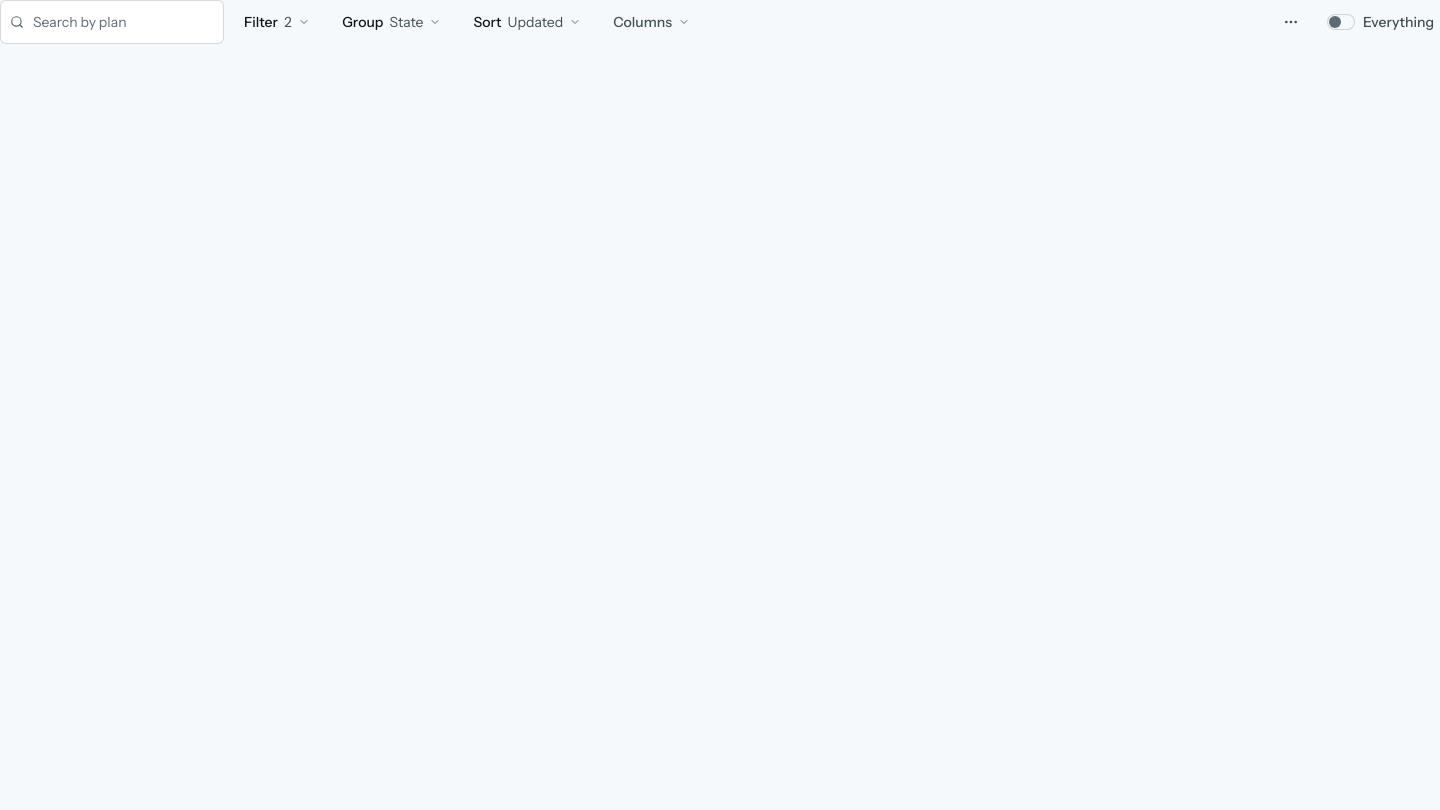
it: on a desk › opens a slot’s panel under its button
Click the button "Group State" at (392, 22), box [330, 0, 454, 44]
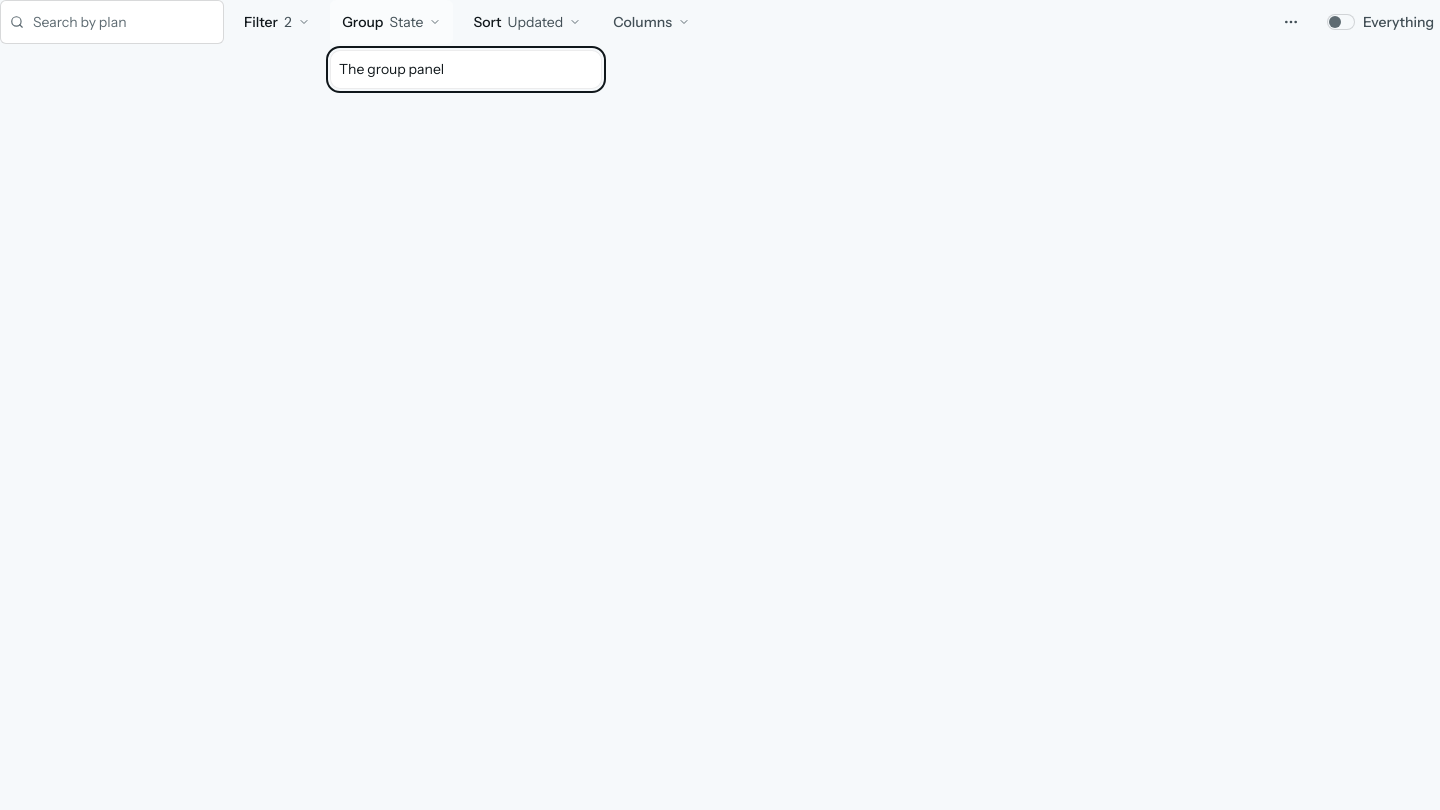
Now the text "The group panel" is shown, box [339, 60, 444, 78]
Press Escape in the dialog, box [330, 50, 602, 89]
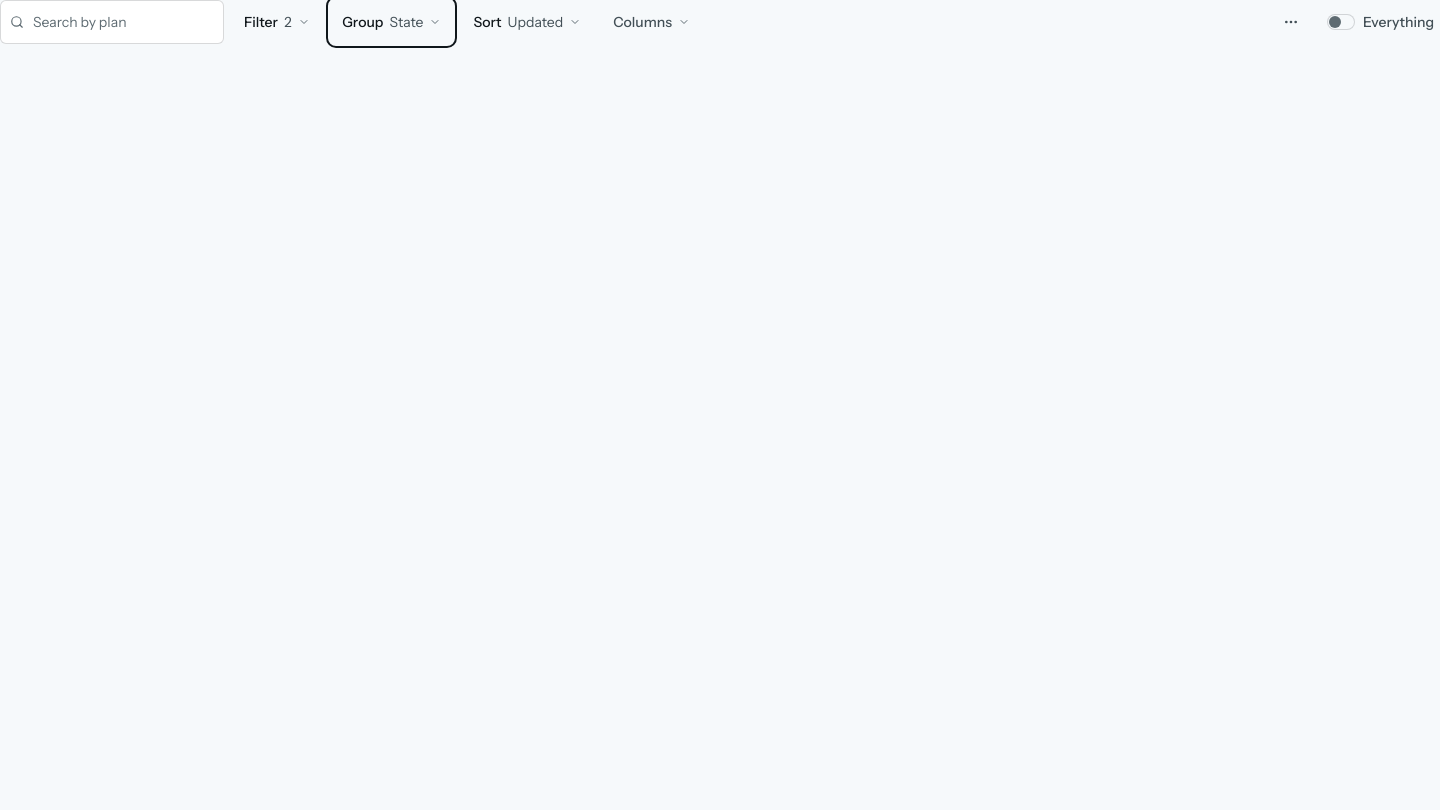
Now the dialog is gone
